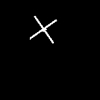single_crochet: (30, 16, 56, 42)
